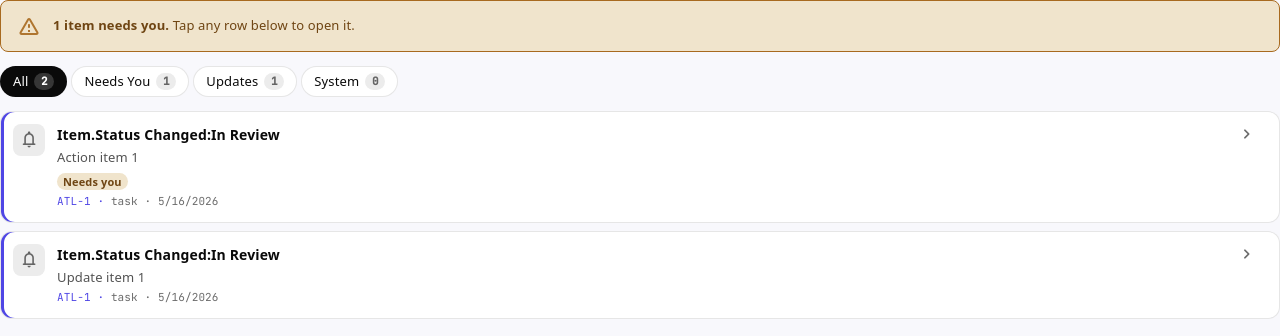
Test: InAppFeedTabContent › clicking "All" filter pill covers setFilter("all") (L109)
// First switch to another filter, then click All to reset
Click the text "System".
click(337, 81)  # box [314,71,359,92]
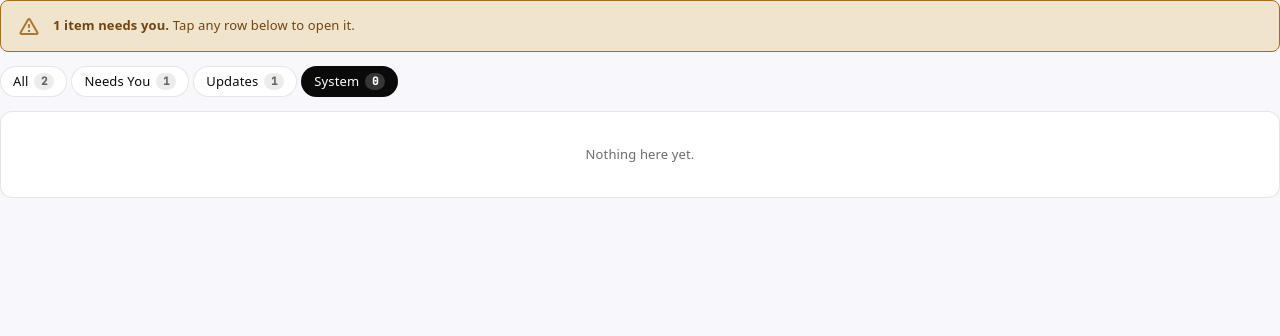
Click the text "All".
click(21, 81)  # box [13,71,28,92]
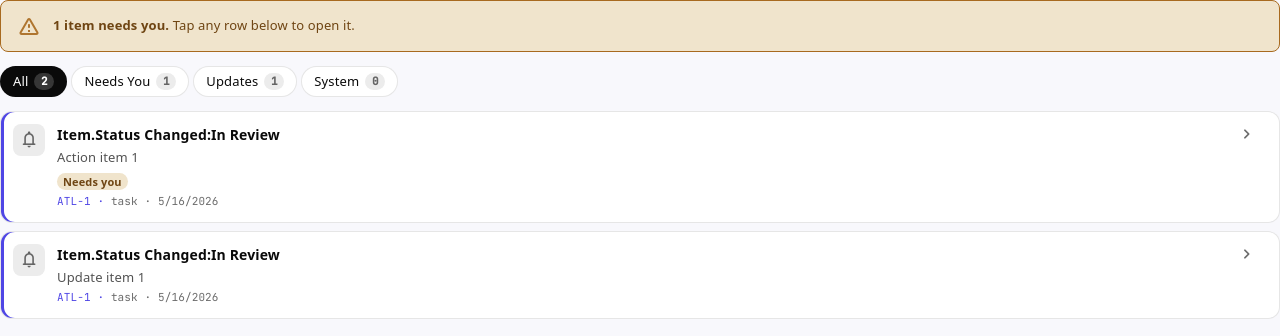
expect the text "Action item 1" is shown: met, box [57,148,139,166]
expect the text "Update item 1" is shown: met, box [57,268,145,286]
